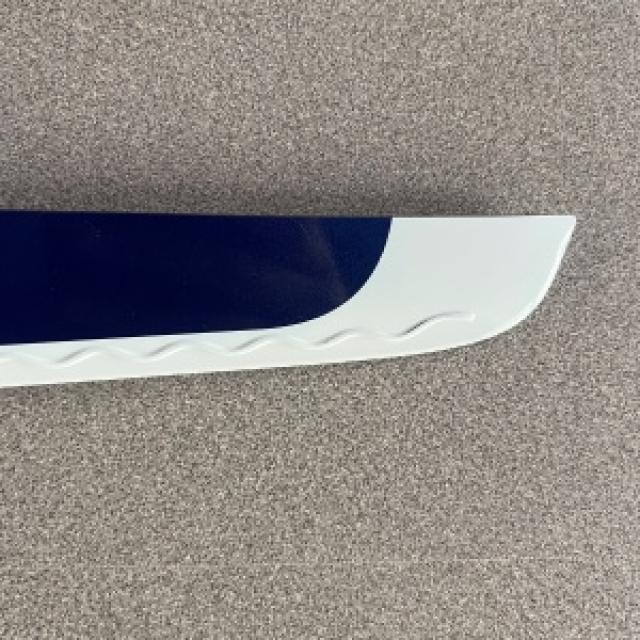healthy: (0, 215, 574, 384)
